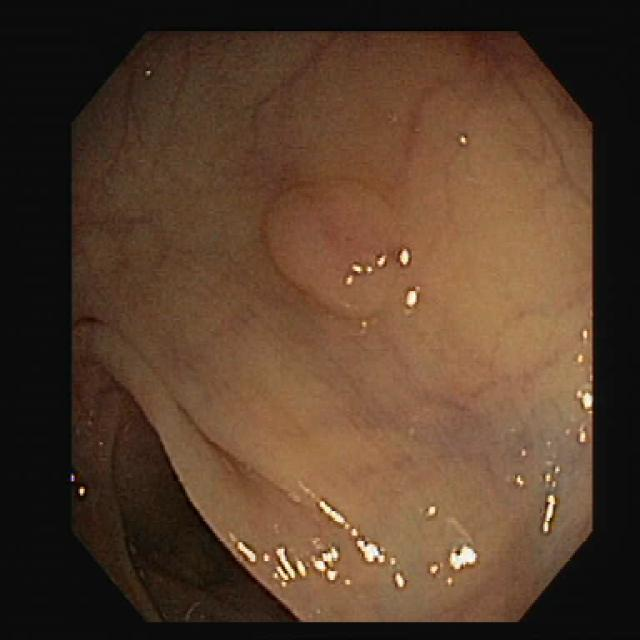tumor: (263, 182, 418, 316)
